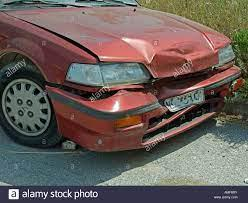bonnet-dent: (37, 6, 226, 73)
front-bumper-dent: (44, 73, 247, 144)
